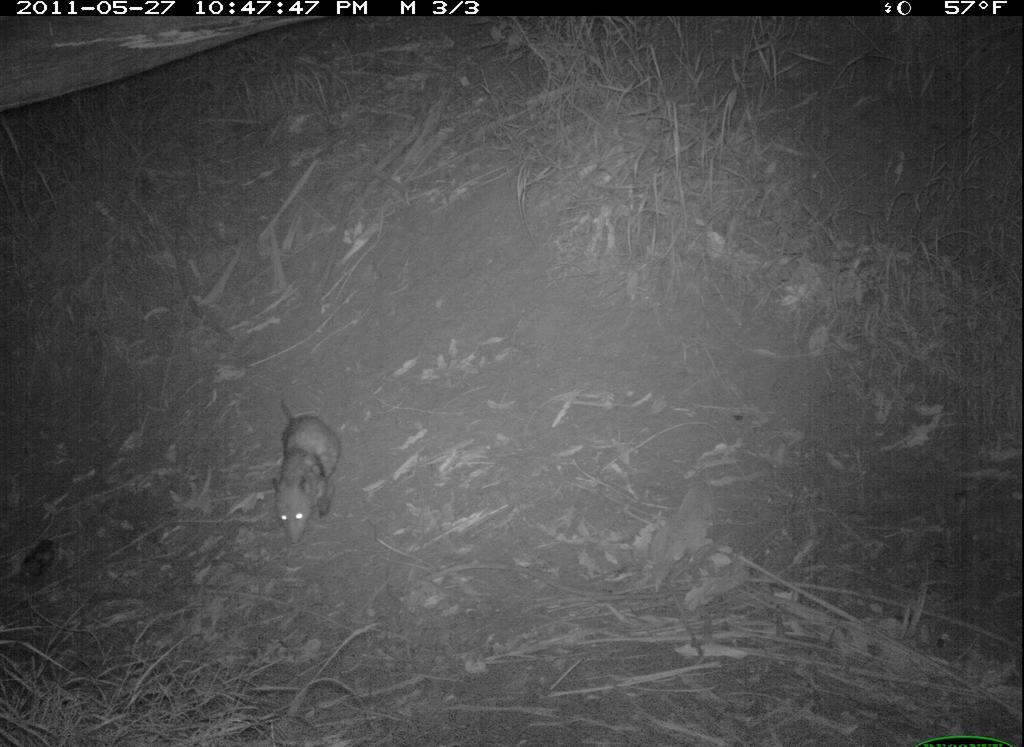opossum: (253, 376, 353, 551)
